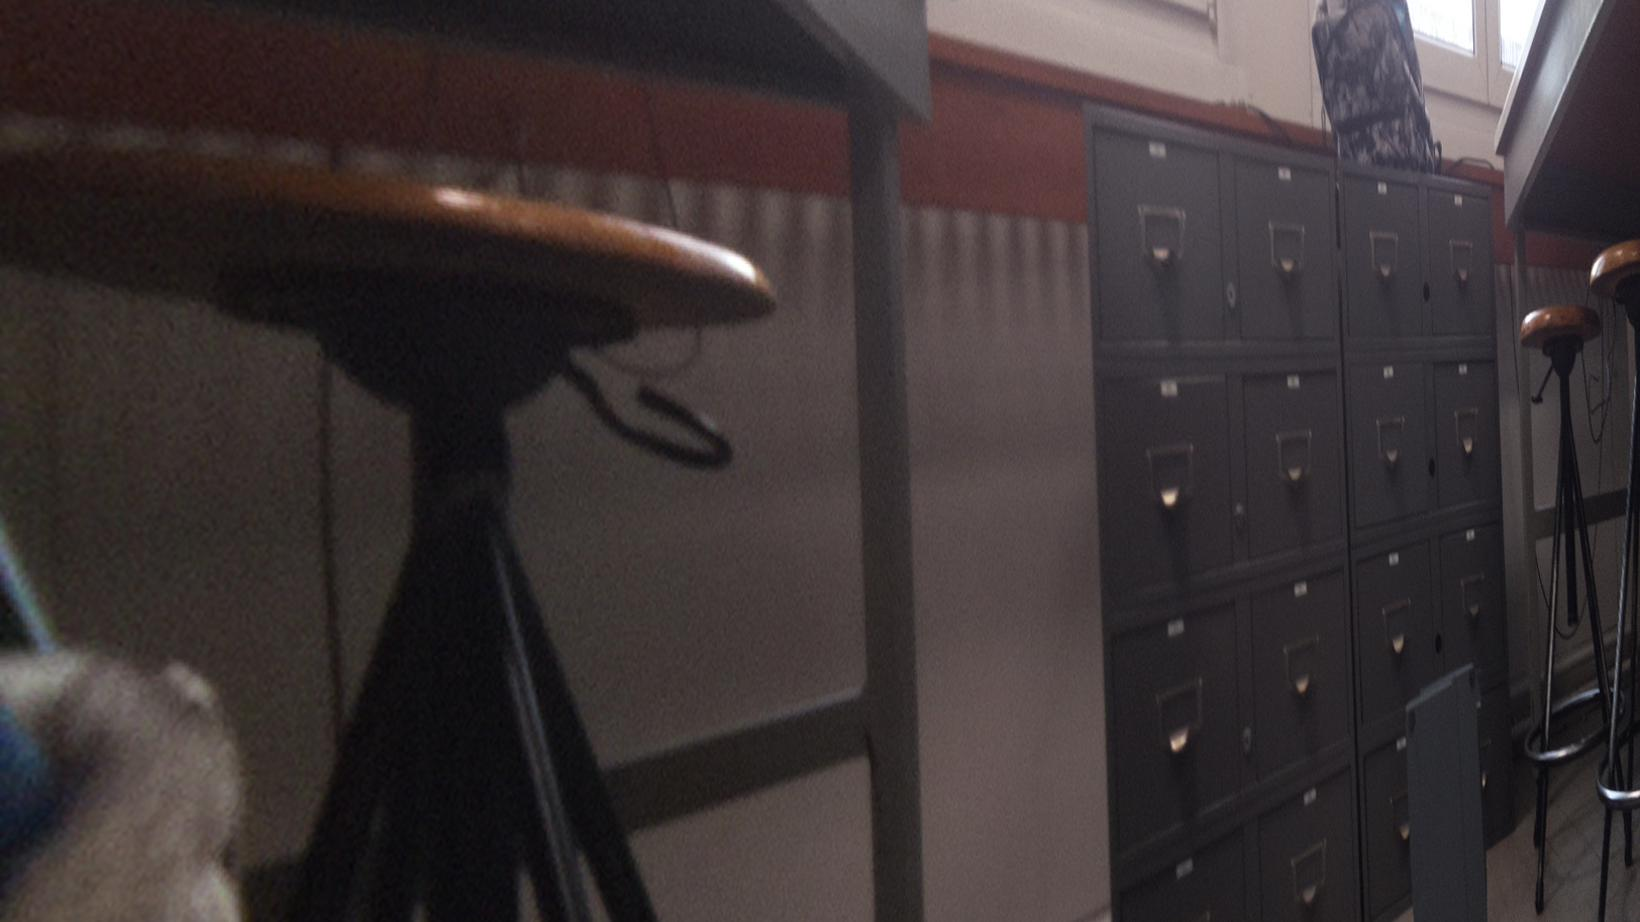big: (1310, 1, 1449, 177)
